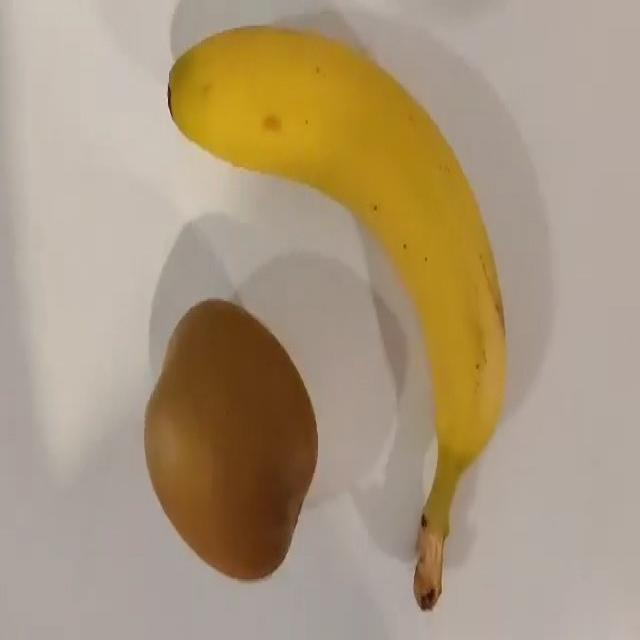Banana: (167, 22, 508, 521)
